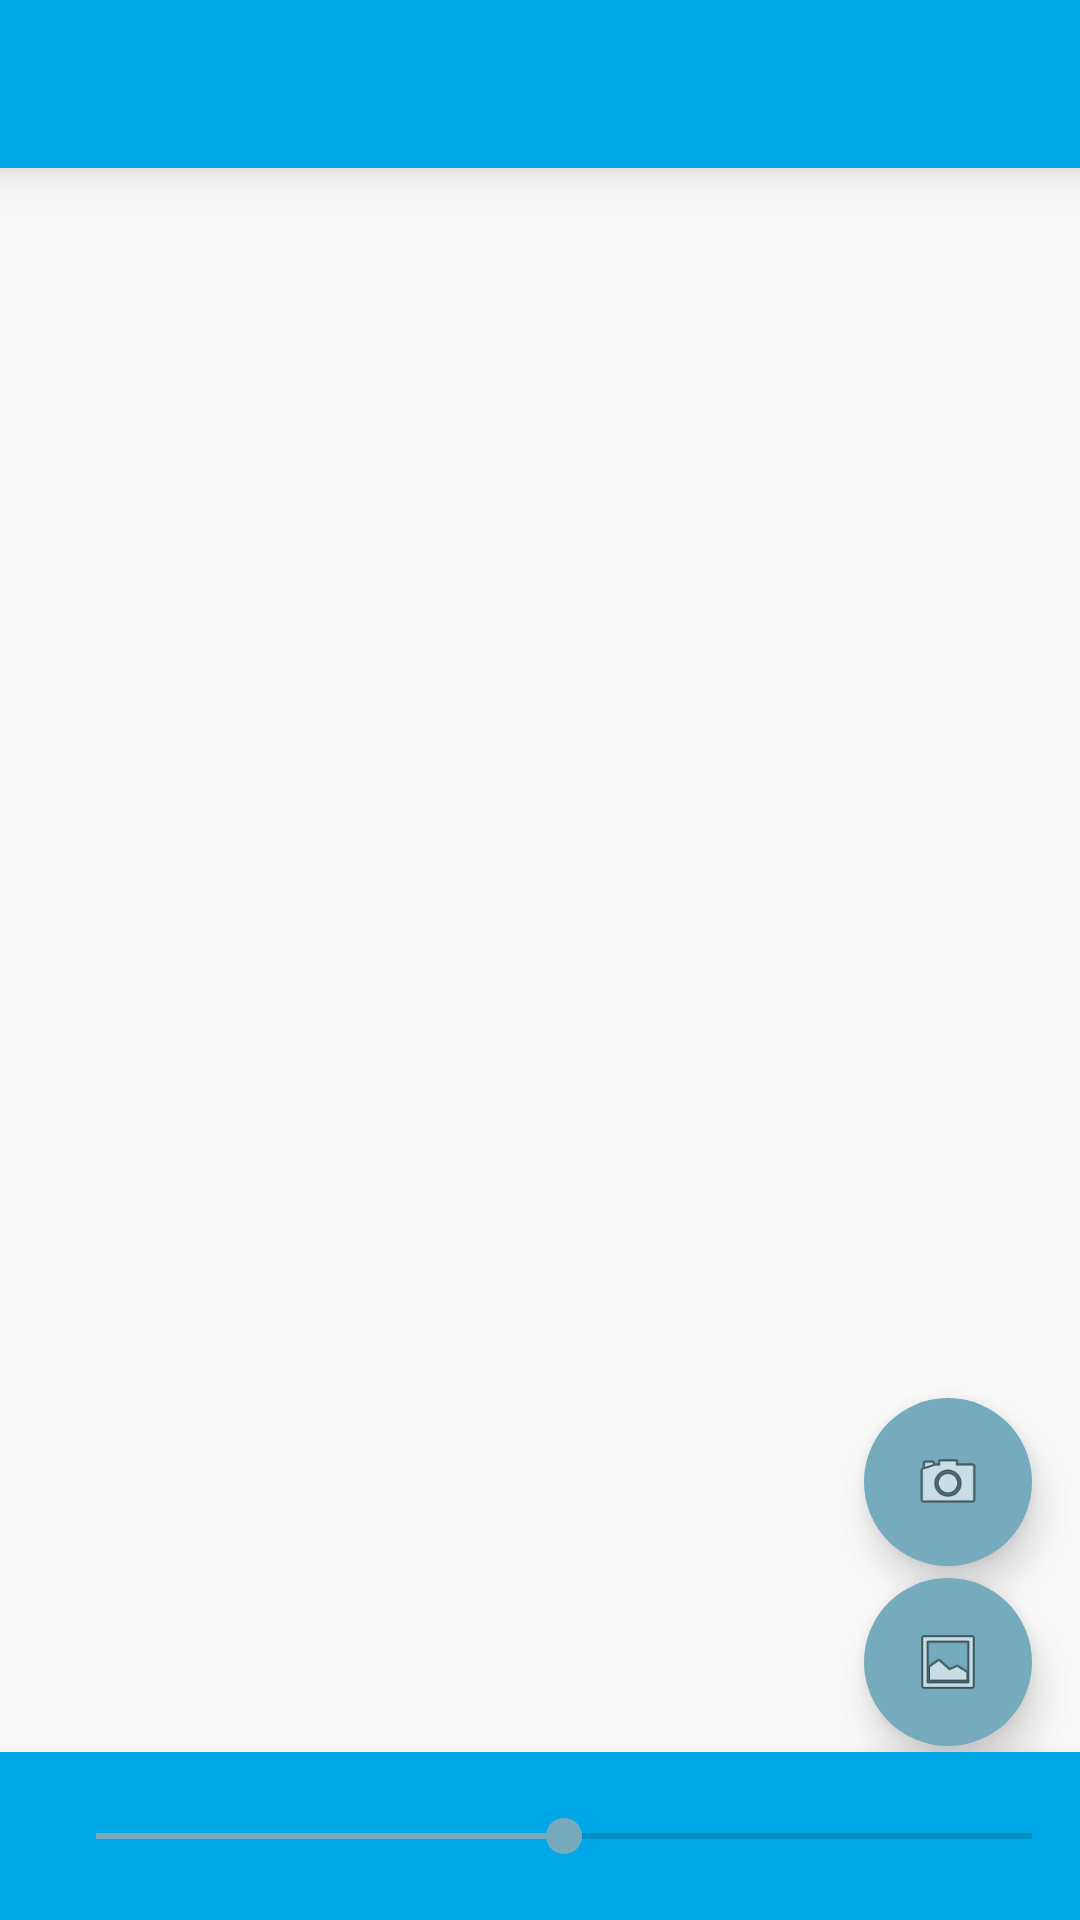

Icon bounding boxes for this 1080x1920 phone screenshot, format (x1, y1, x2, y2):
camera: (864, 1398, 1032, 1566)
gallery: (864, 1578, 1032, 1746)
